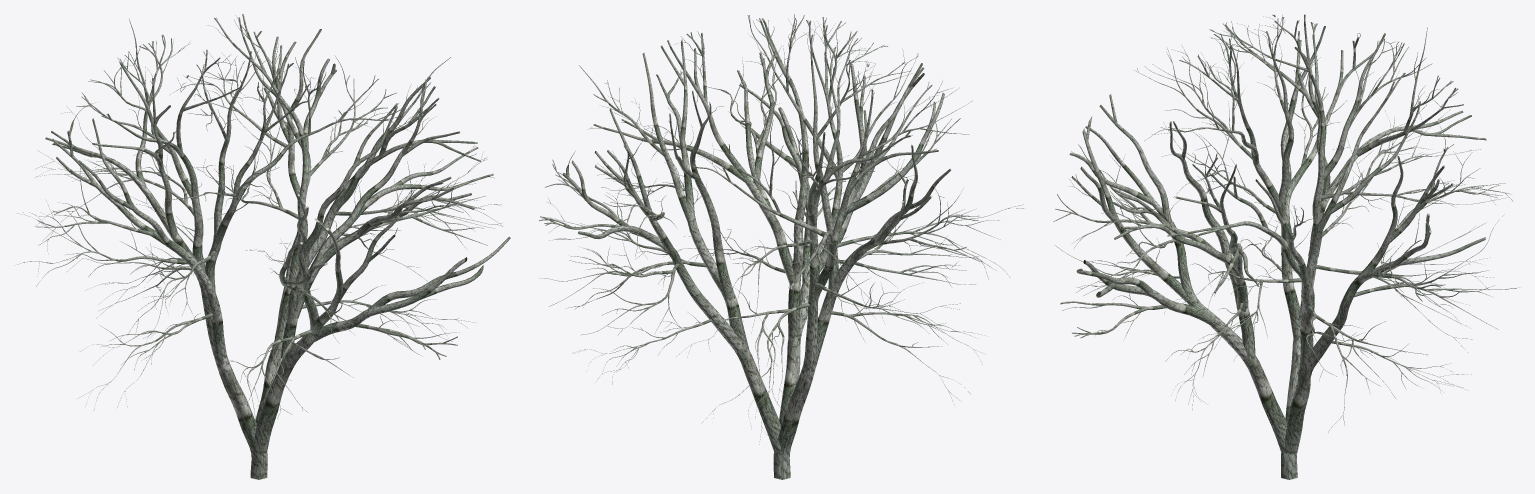
The model's file is tree_1.glb.
3 renders of one model, left to right at view 1: azimuth 30°, elevation 25°; view 2: azimuth 150°, elevation 25°; view 3: azimuth 270°, elevation 25°, orthographic.
Visible parts, largest first — view 1: tree; view 2: tree; view 3: tree.
Boxes of the visible parts, x1,y1,x2,y2 form: tree: (16, 14, 510, 479); tree: (539, 14, 1023, 479); tree: (1053, 14, 1520, 479).
Size of the model in its own units: 7.83 by 7.79 by 7.58.
Materials: 1 (1 with a texture image).
